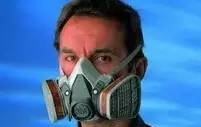face_mask: (57, 23, 126, 114)
